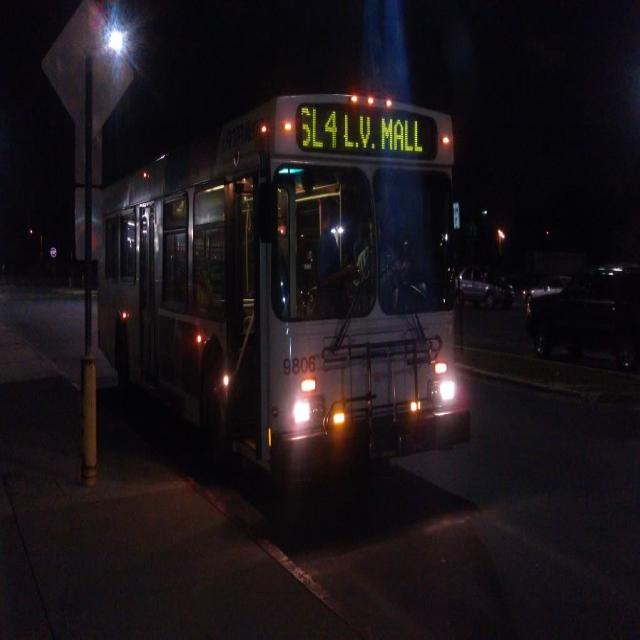Bus: (76, 76, 507, 538)
People: (348, 205, 405, 321), (316, 206, 356, 326)
car: (525, 231, 640, 383), (460, 241, 520, 337)
